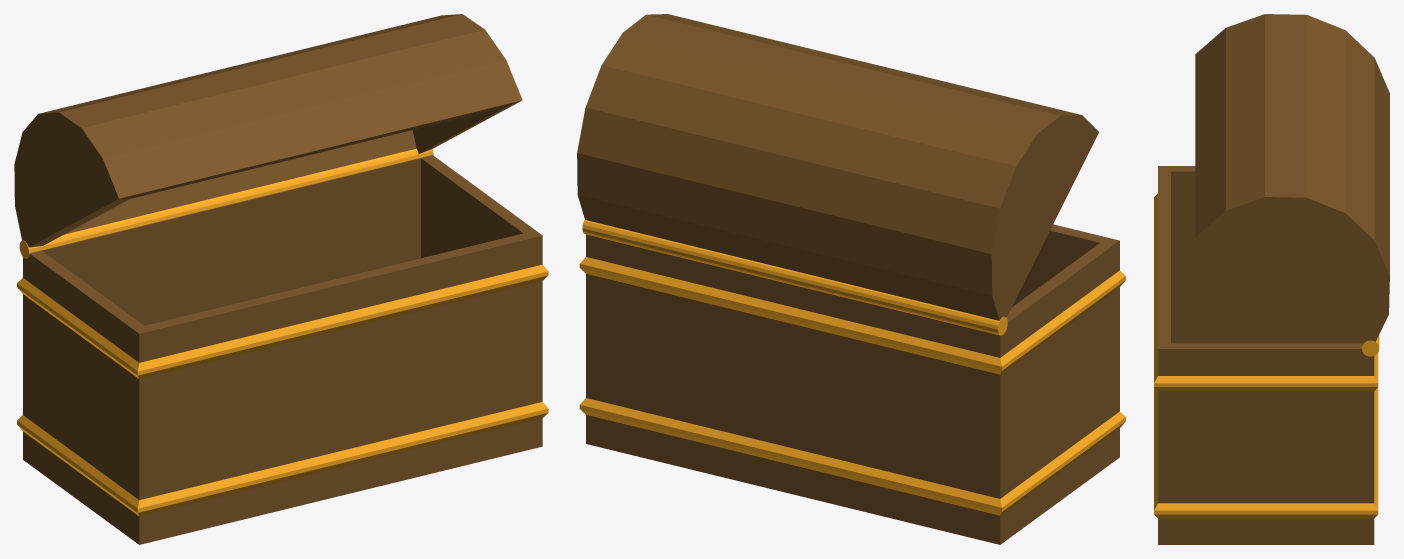
File: SM_Chest.fbx
3 views of the same model, side by side, from view 1: azimuth 30°, elevation 25°; view 2: azimuth 150°, elevation 25°; view 3: azimuth 270°, elevation 25° (orthographic). The views are drawn at different scales.
Parts seen in each view (by area): view 1: SM_Chest; view 2: SM_Chest; view 3: SM_Chest.
Boxes of the visible parts, x1,y1,x2,y2 form: SM_Chest: [14, 14, 548, 544]; SM_Chest: [577, 14, 1125, 544]; SM_Chest: [1154, 14, 1389, 544].
Size of the model in its own units: 407 by 355 by 218.
